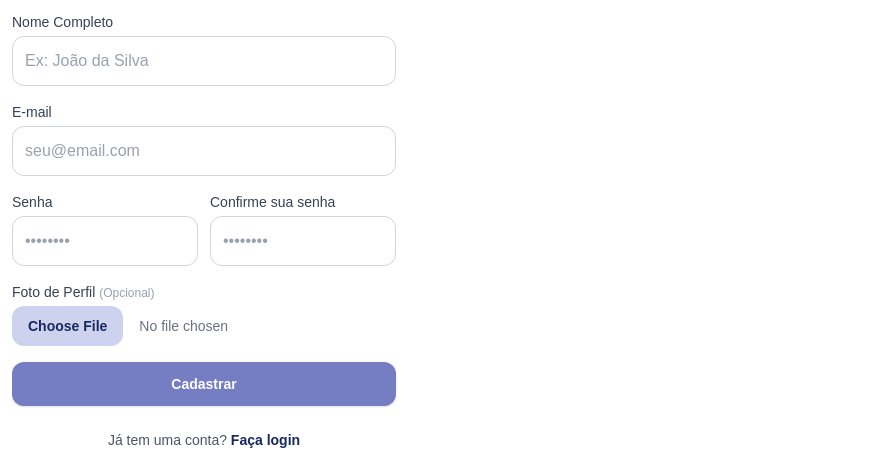
Test: [US01] RegisterAuth › Deve realizar o envio com sucesso mesmo sem selecionar nenhuma foto de perfil (foto opcional)
Type "João da Silva" into the field labelled "Nome Completo".
click(204, 61); type("João da Silva")  # box [12,36,396,86]
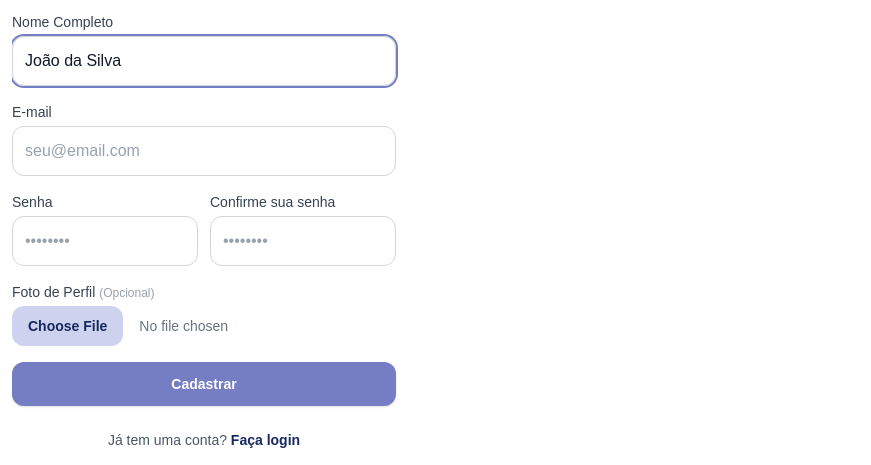
Type "joao.silva@uefs.br" into the field labelled "E-mail".
click(204, 151); type("joao.silva@uefs.br")  # box [12,126,396,176]
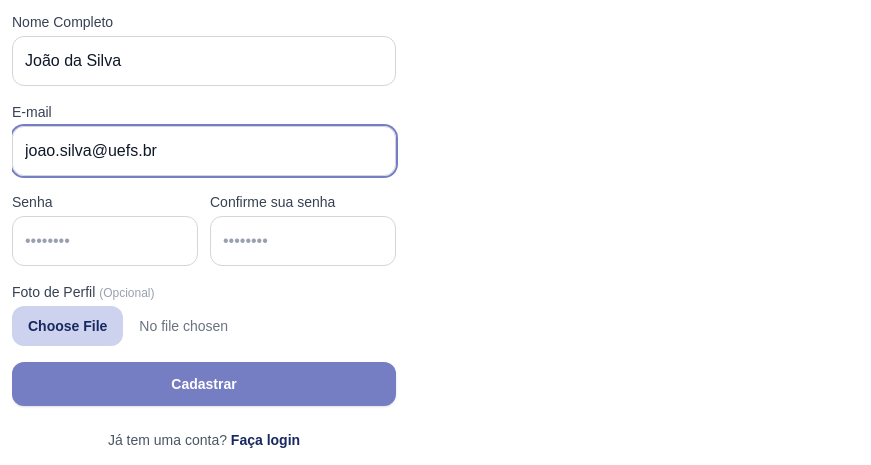
Type "Senha@123" into the password field labelled "Senha".
click(105, 241); type("Senha@123")  # box [12,216,198,266]
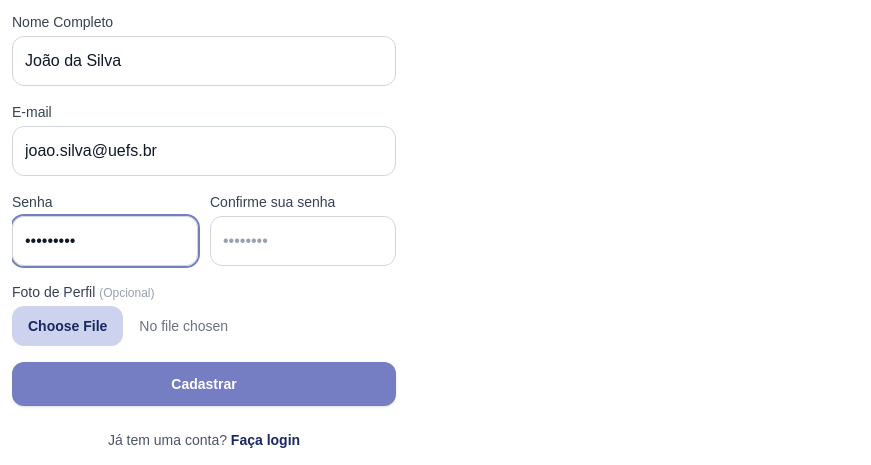
Type "Senha@123" into the password field labelled "Confirme sua senha".
click(303, 241); type("Senha@123")  # box [210,216,396,266]
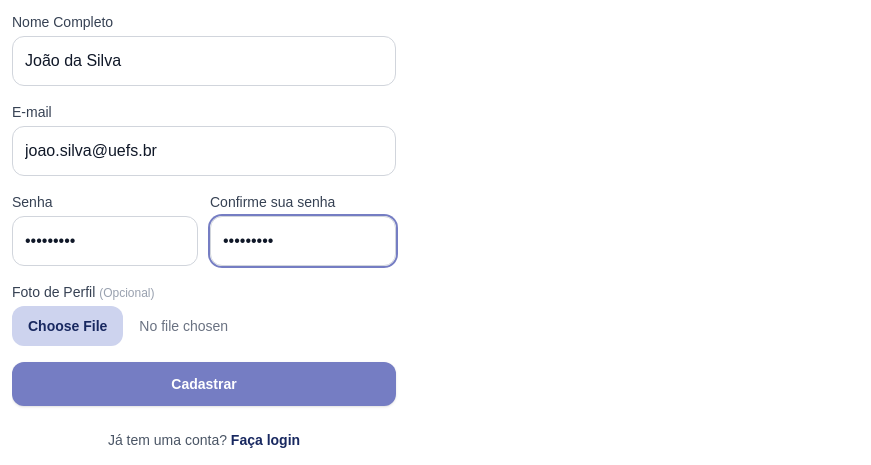
Click the button "Cadastrar".
click(204, 384)  # box [12,362,396,406]
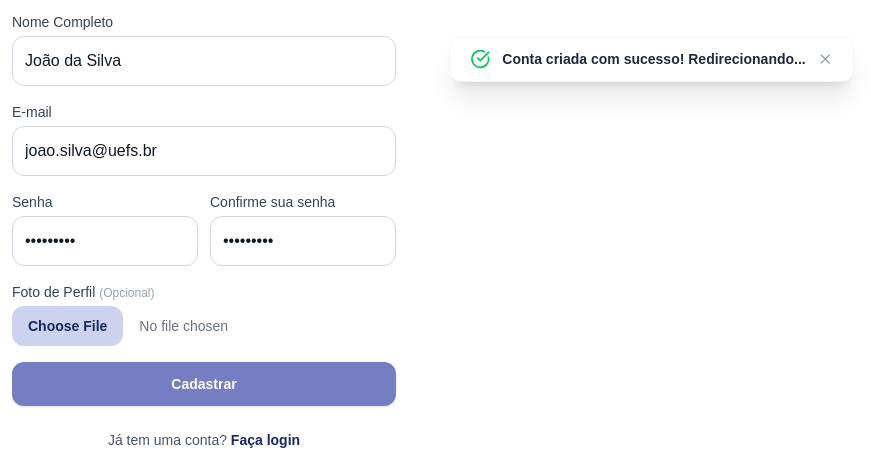
Now the text "Conta criada com sucesso! Redirecionando..." is shown, box [502,49,806,69]
